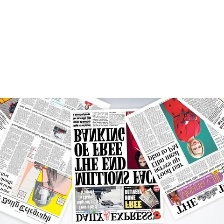news_paper: (0, 96, 112, 224), (121, 96, 224, 221), (67, 107, 164, 224), (172, 96, 223, 150), (0, 95, 24, 150)
